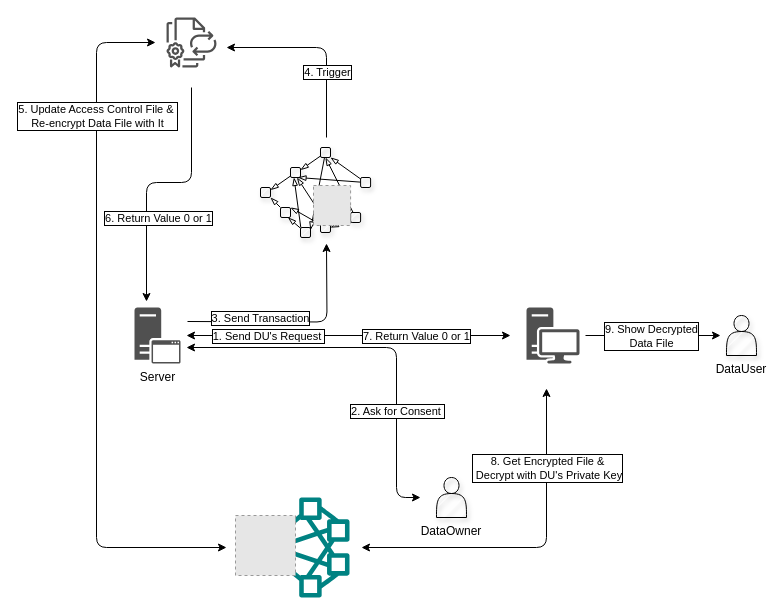
Some shapes in this 784 by 614 pixel diagram are drawn without their labels. Grey dashed boxes stand in for pictures. Here are the shapes that lost their labels. From the top down, the centre of each, then its label:
At pixel 191 42: "IOTA SmartContract".
At pixel 552 335: "Data User's Computer".
